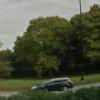Car: (24, 77, 75, 94)
